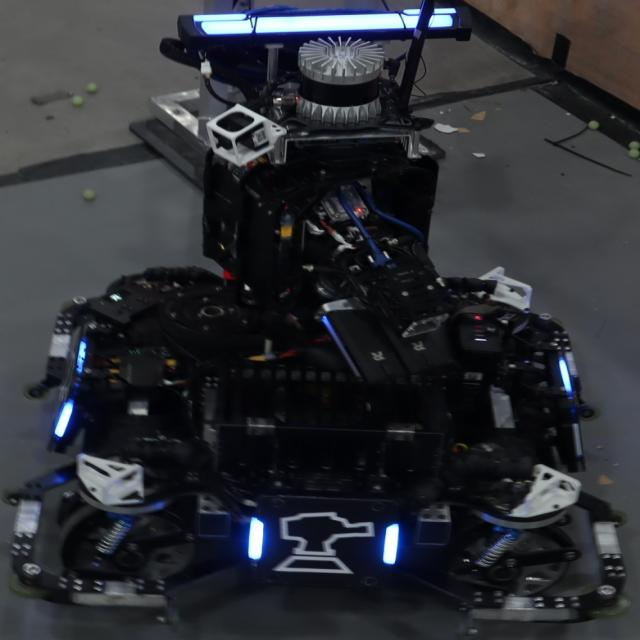Bs: (248, 502, 402, 582)
